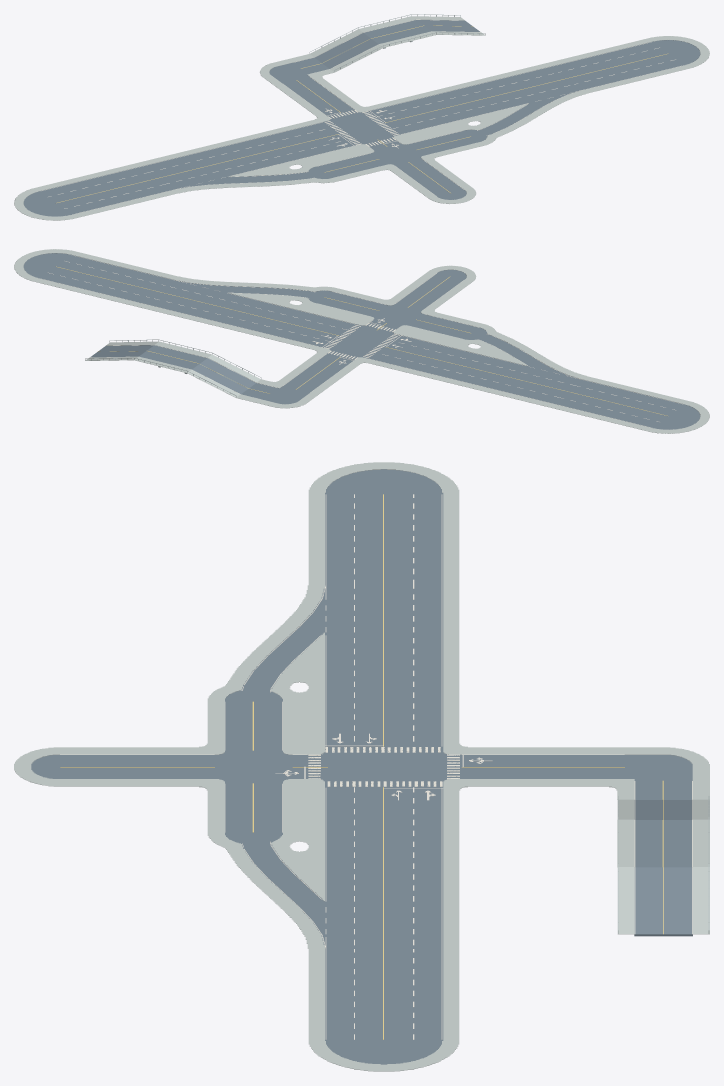
File: network-w68-s39.glb
The picture shows the model from 3 angles, top to bottom: view 1: azimuth 30°, elevation 25°; view 2: azimuth 150°, elevation 25°; view 3: azimuth 270°, elevation 25°; orthographic projection. The views are drawn at different scales.
Parts seen in each view (by area): view 1: Road_surface, Sidewalks, Lane_markings, Ramp_surface, Crosswalks, Bridge_railings; view 2: Road_surface, Sidewalks, Lane_markings, Ramp_surface, Crosswalks, Bridge_railings; view 3: Road_surface, Sidewalks, Lane_markings, Ramp_surface, Crosswalks.
Part boxes in pixels (left/top/right/bottom): Road_surface: left=23, top=20, right=700, bottom=216; Sidewalks: left=14, top=16, right=709, bottom=220; Lane_markings: left=42, top=19, right=683, bottom=214; Ramp_surface: left=314, top=20, right=479, bottom=68; Crosswalks: left=324, top=110, right=399, bottom=146; Bridge_railings: left=309, top=14, right=485, bottom=71; Road_surface: left=23, top=253, right=700, bottom=429; Sidewalks: left=14, top=249, right=709, bottom=433; Lane_markings: left=41, top=255, right=683, bottom=427; Ramp_surface: left=90, top=345, right=255, bottom=393; Crosswalks: left=324, top=323, right=399, bottom=359; Bridge_railings: left=85, top=339, right=261, bottom=397; Road_surface: left=31, top=469, right=692, bottom=1064; Sidewalks: left=14, top=462, right=709, bottom=1071; Lane_markings: left=60, top=494, right=692, bottom=1039; Ramp_surface: left=634, top=800, right=692, bottom=936; Crosswalks: left=308, top=747, right=459, bottom=786.
Size of the model in its own units: 335 by 7.51 by 162.
